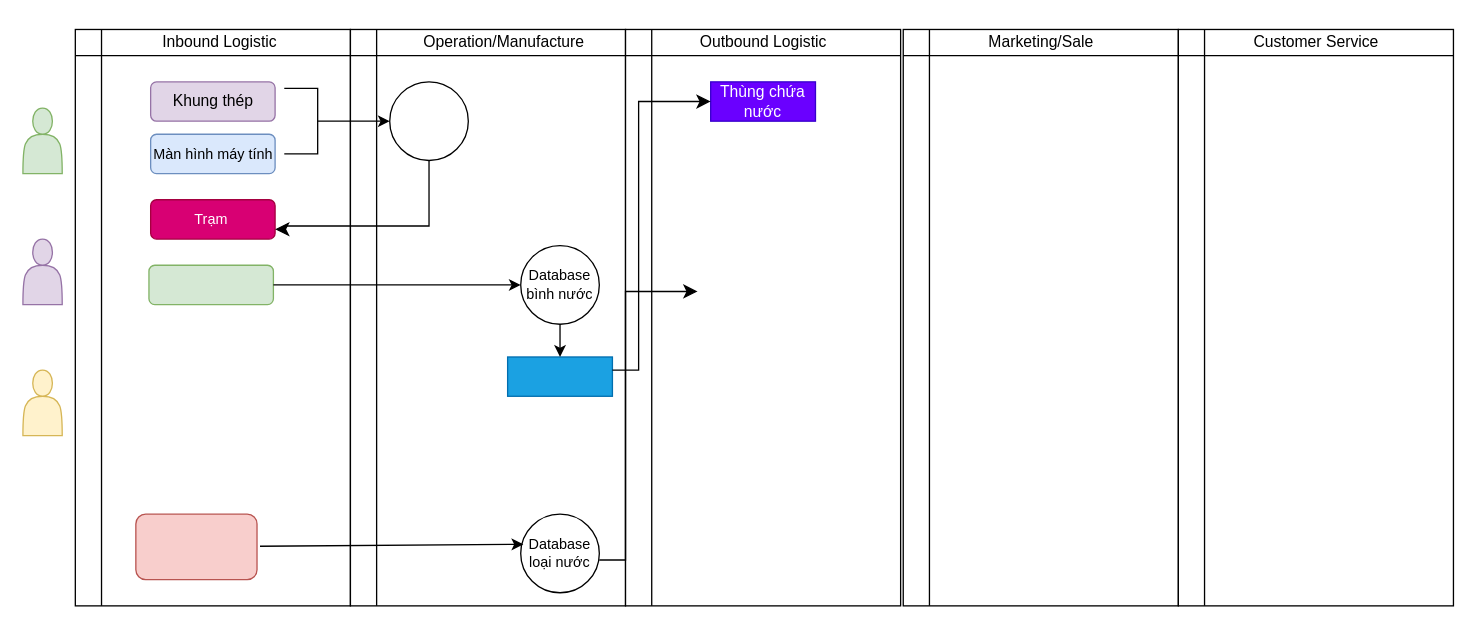
This 1476x629 diagram has some shape labels left out. The centre of each missing label's shape, as x and y in pixels:
"Bình nước" belongs at [210,284].
"Các loại nước" belongs at [196,546].
"Database thô trạm" belongs at [428,120].
"Nơi rửa bình" belongs at [559,376].
